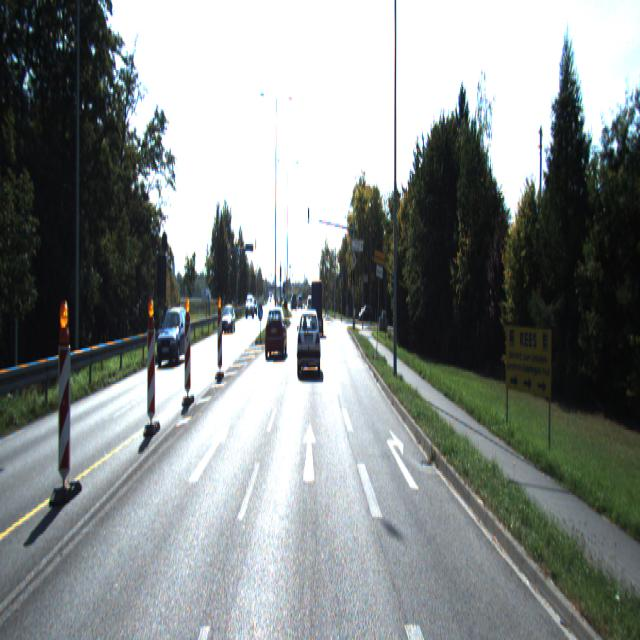Car: (156, 304, 190, 368), (297, 312, 320, 376), (264, 310, 288, 362), (310, 278, 322, 333)
